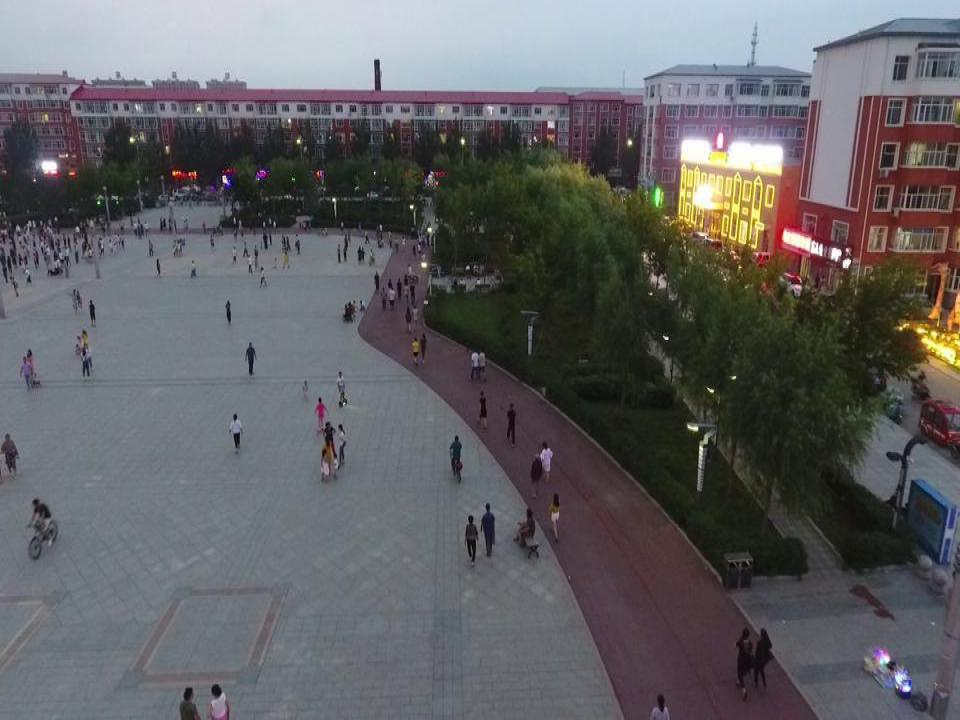car: (843, 343, 886, 393), (775, 270, 811, 298), (173, 188, 188, 199), (180, 184, 200, 192), (159, 192, 176, 201), (136, 190, 154, 198), (205, 184, 216, 193)
